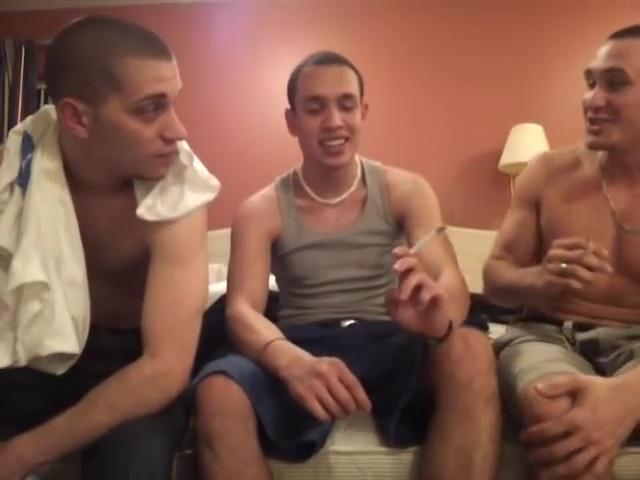cigarette: (406, 223, 452, 256), (581, 235, 601, 255)
